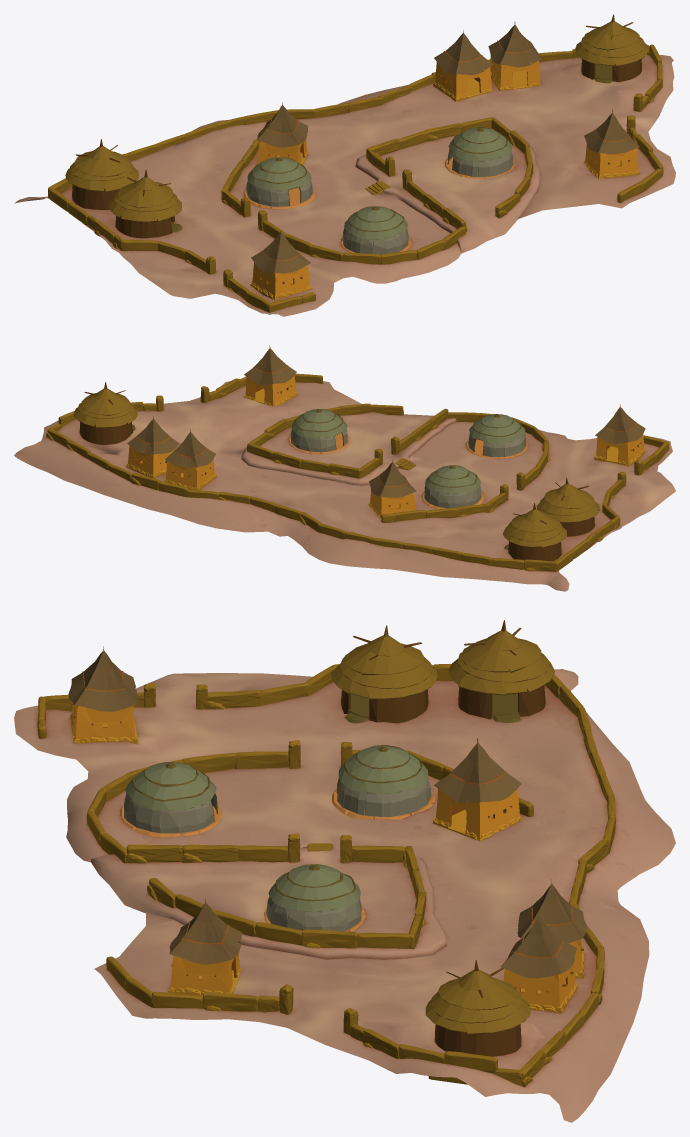
Rendered from Mali_Ground.fbx.
3 renders of one model, top to bottom at view 1: azimuth 30°, elevation 25°; view 2: azimuth 150°, elevation 25°; view 3: azimuth 270°, elevation 25°, orthographic. The views are drawn at different scales.
Parts seen in each view (by area): view 1: Mali_Ground, MaliHut_A.005, MaliHut_A.003, MaliHut_A.001, MaliHut_C.003, MaliHut_C.005, MaliHut_C.004, MaliHut_B.007, MaliHut_B.006, MaliHut_B.008, MaliHut_B.005, MaliHut_B.009; view 2: Mali_Ground, MaliHut_A.003, MaliHut_A.001, MaliHut_C.004, MaliHut_C.005, MaliHut_A.005, MaliHut_C.003, MaliHut_B.008, MaliHut_B.007, MaliHut_B.006, MaliHut_B.005, MaliHut_B.009 (+1 smaller); view 3: Mali_Ground, MaliHut_A.001, MaliHut_A.005, MaliHut_A.003, MaliHut_C.003, MaliHut_C.004, MaliHut_B.009, MaliHut_C.005, MaliHut_B.008, MaliHut_B.007, MaliHut_B.005, MaliHut_B.006 (+14 smaller).
Part boxes in pixels (box(x1,y1,x2,y2)): Mali_Ground: box(14, 54, 675, 316); MaliHut_A.005: box(108, 170, 182, 238); MaliHut_A.003: box(575, 14, 648, 83); MaliHut_A.001: box(65, 139, 138, 209); MaliHut_C.003: box(243, 157, 316, 208); MaliHut_C.005: box(445, 127, 515, 178); MaliHut_C.004: box(340, 206, 411, 254); MaliHut_B.007: box(250, 229, 311, 300); MaliHut_B.006: box(433, 30, 493, 101); MaliHut_B.008: box(584, 109, 640, 179); MaliHut_B.005: box(488, 21, 541, 90); MaliHut_B.009: box(257, 102, 308, 164); Mali_Ground: box(14, 379, 675, 591); MaliHut_A.003: box(73, 382, 137, 445); MaliHut_A.001: box(502, 503, 566, 561); MaliHut_C.004: box(465, 414, 527, 458); MaliHut_C.005: box(288, 409, 349, 454); MaliHut_A.005: box(536, 478, 600, 536); MaliHut_C.003: box(422, 465, 484, 509); MaliHut_B.008: box(244, 345, 298, 406); MaliHut_B.007: box(594, 404, 646, 466); MaliHut_B.006: box(164, 429, 216, 490); MaliHut_B.005: box(126, 416, 179, 478); MaliHut_B.009: box(368, 459, 416, 518); Mali_Ground: box(14, 669, 675, 1122); MaliHut_A.001: box(448, 620, 554, 722); MaliHut_A.005: box(331, 625, 437, 723); MaliHut_A.003: box(425, 960, 530, 1056); MaliHut_C.003: box(332, 745, 435, 819); MaliHut_C.004: box(120, 762, 221, 837); MaliHut_B.009: box(433, 738, 522, 841); MaliHut_C.005: box(264, 864, 365, 931); MaliHut_B.008: box(168, 898, 241, 995); MaliHut_B.007: box(68, 646, 137, 744); MaliHut_B.005: box(500, 912, 577, 1013); MaliHut_B.006: box(517, 879, 586, 978).
Size of the model in its own units: 8471 by 1023 by 5290.
